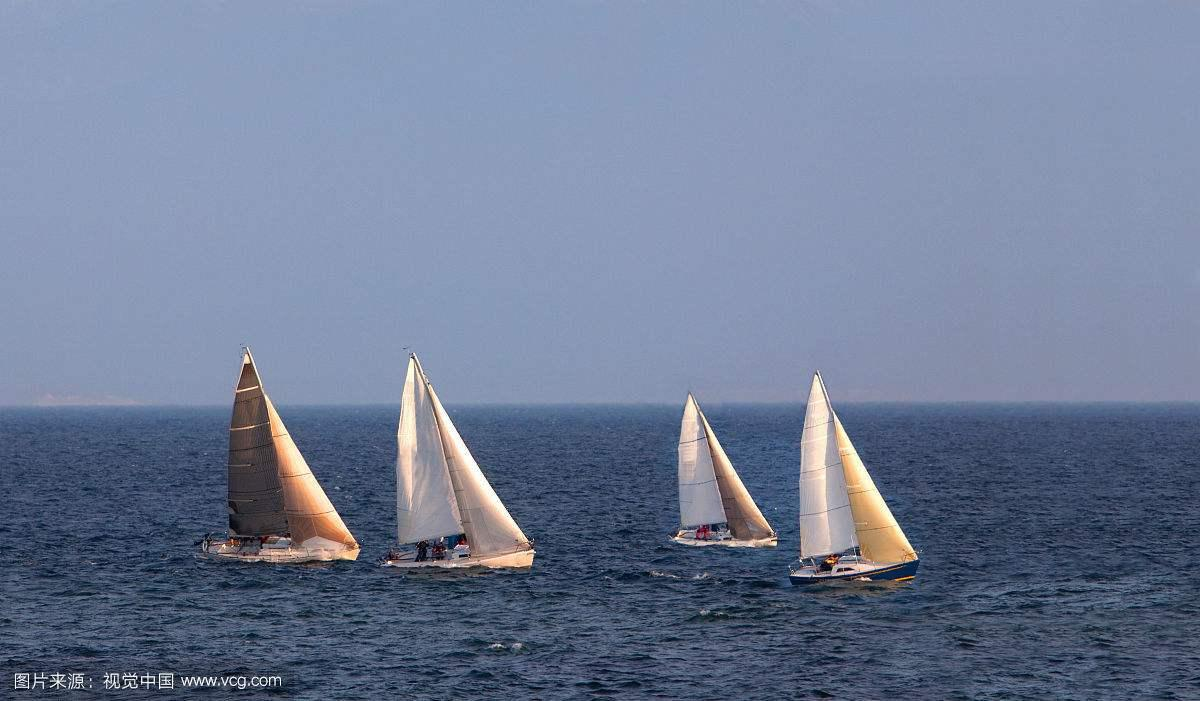fanchuan: (379, 344, 539, 574), (200, 341, 360, 569), (785, 368, 922, 589), (666, 391, 781, 549)
